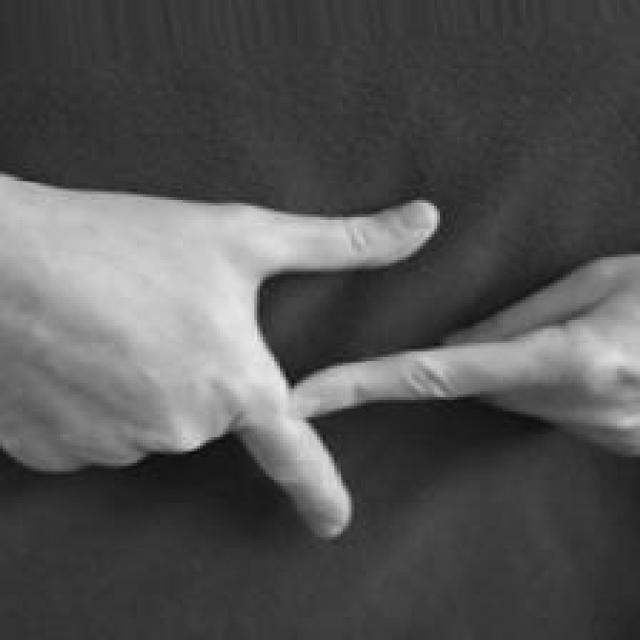F: (0, 150, 640, 550)
